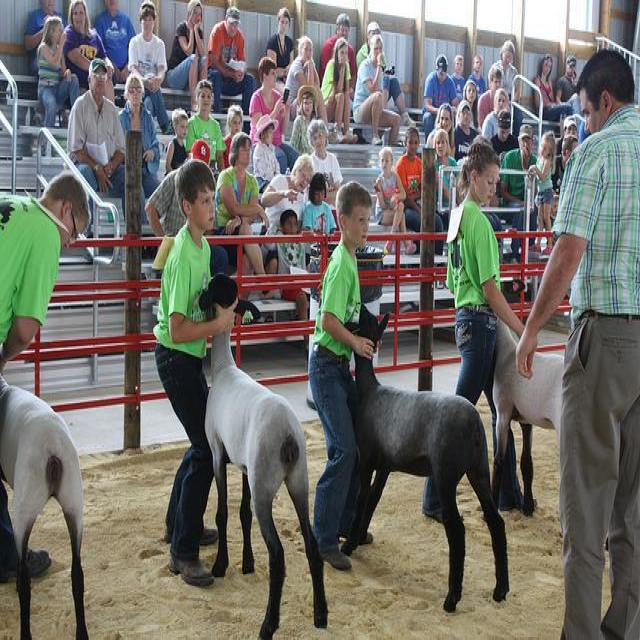Sheep: (346, 304, 513, 622), (201, 274, 329, 638), (0, 378, 91, 634), (492, 316, 565, 517)
